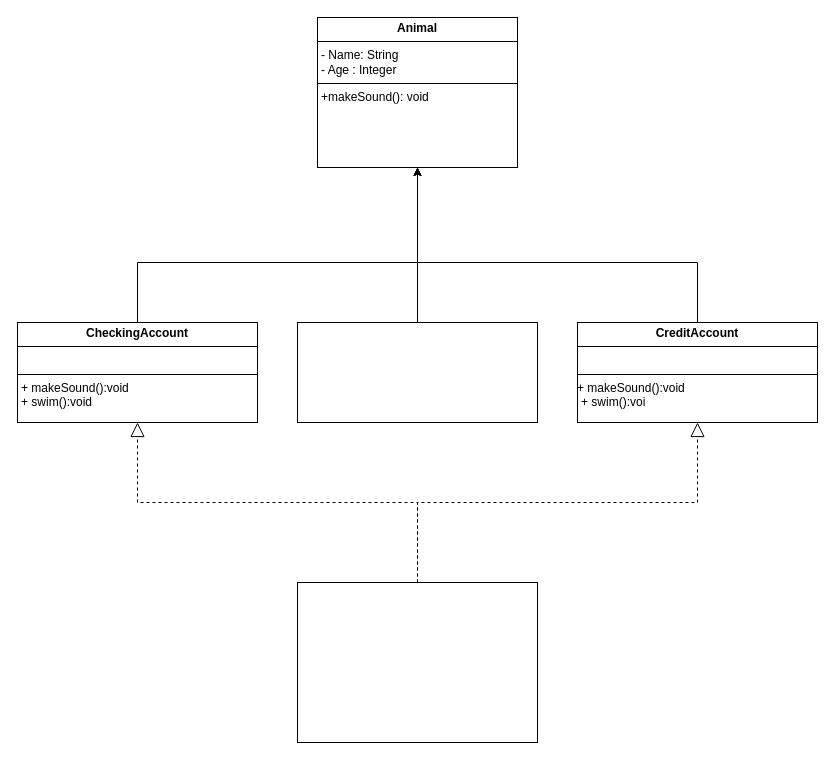
This 835x760 diagram has some shape labels left out. The shapes that lost their labels are listed below. From the top down, each one's box as (x1, y1, x2, y2) in pixels, then its label:
(296, 322, 538, 422): Cat + makeSound():void
(296, 582, 538, 742): <<Interface>> Swimmable +swim() : void
